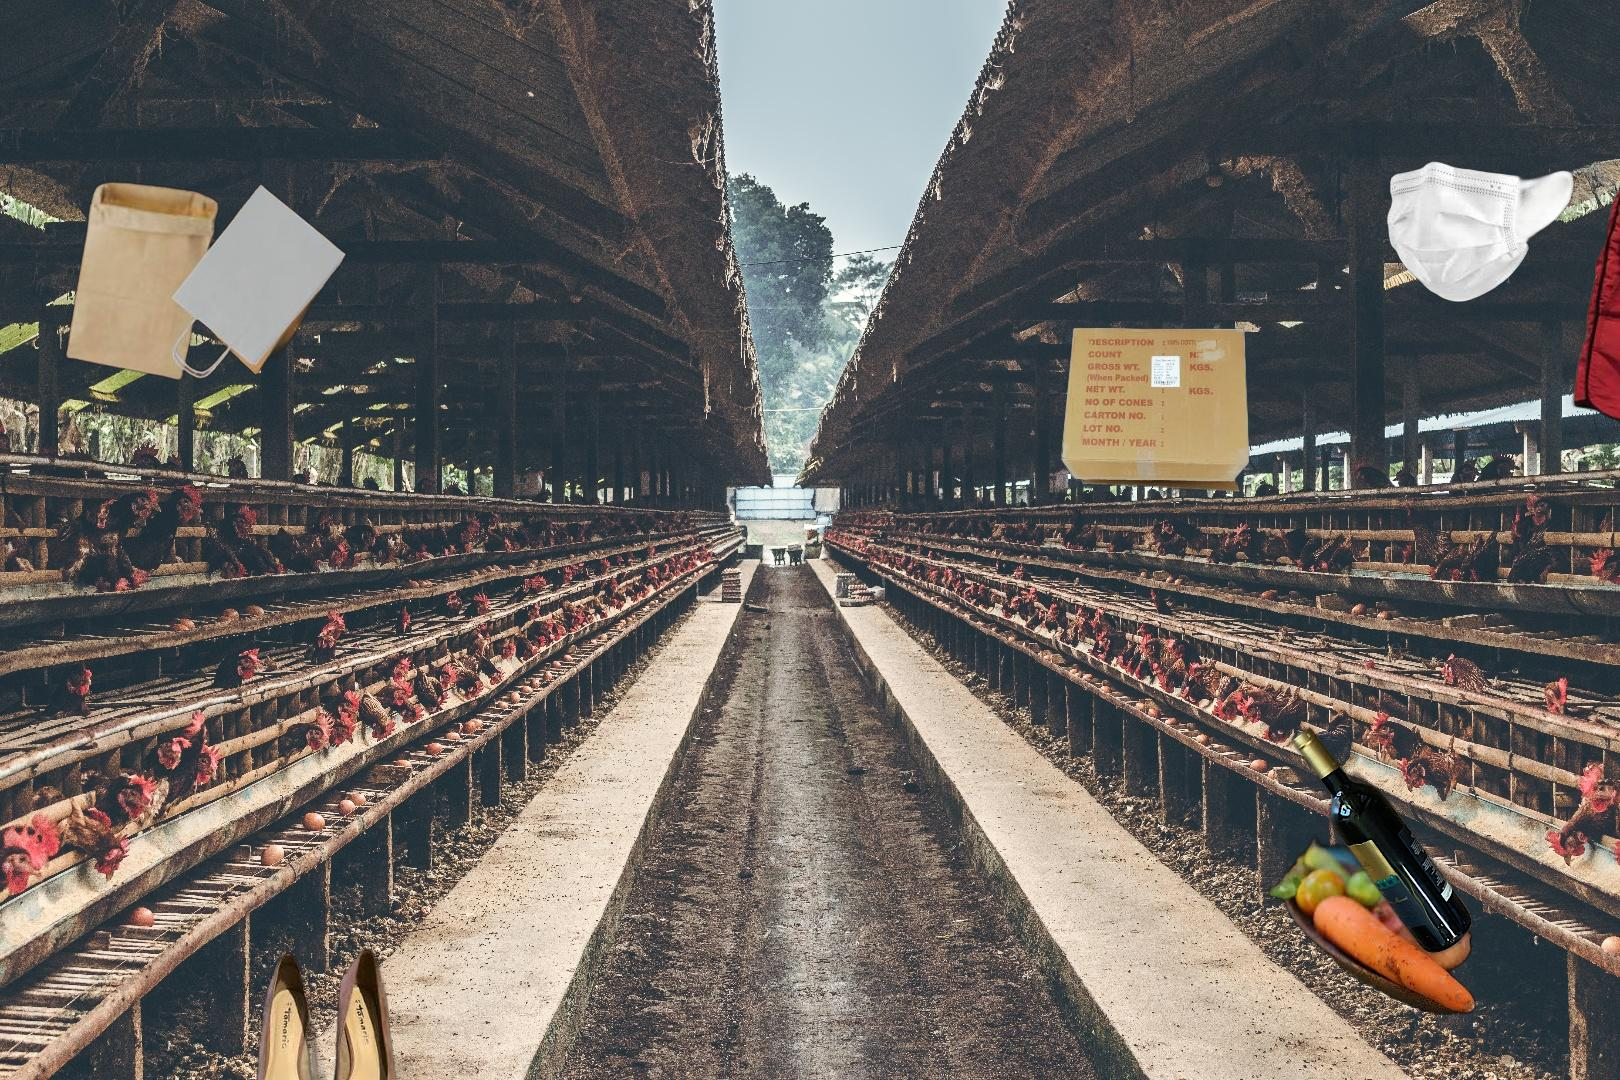biological: (1248, 832, 1524, 1015)
clothes: (1567, 87, 1620, 477)
glass: (1289, 722, 1477, 963)
paper-bag: (61, 180, 350, 385)
shoes: (250, 945, 405, 1080)
trash: (1384, 159, 1577, 305)
trashbox-cardboard: (1058, 325, 1252, 495)
